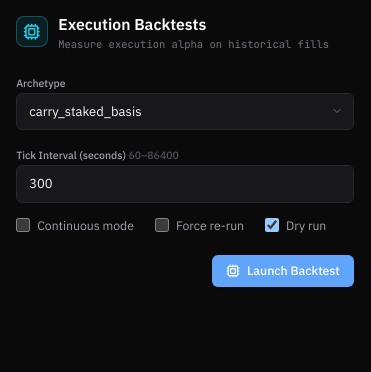
Scenario: ExecutionBacktests › shows error panel on API failure
Click the button with test id "launch-button": (283,271) [212,255,354,286]
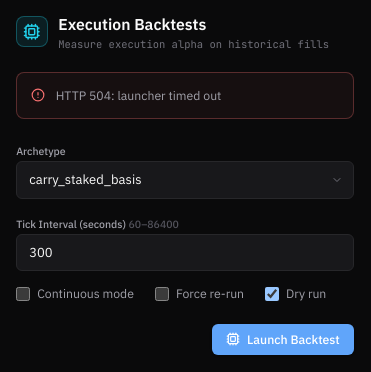
Expected: the element with test id "launch-error" is shown, [16,72,354,119]
Expected: the text "HTTP 504: launcher timed out" is shown, [56,86,221,104]
